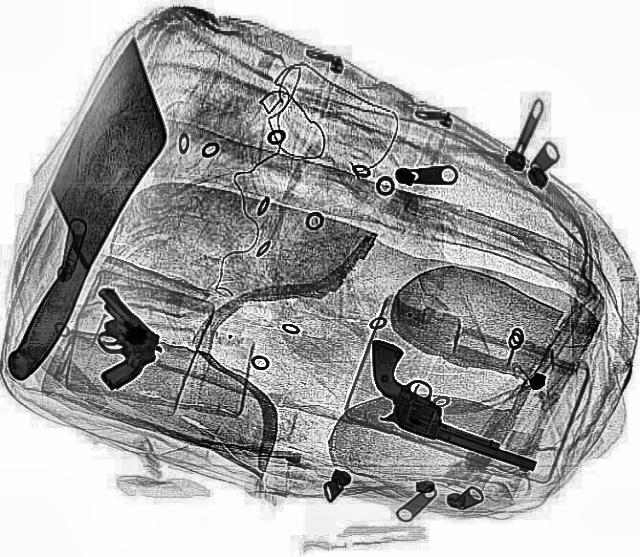Gun: (336, 338, 566, 474), (46, 282, 176, 392)
Knife: (0, 38, 206, 294)
